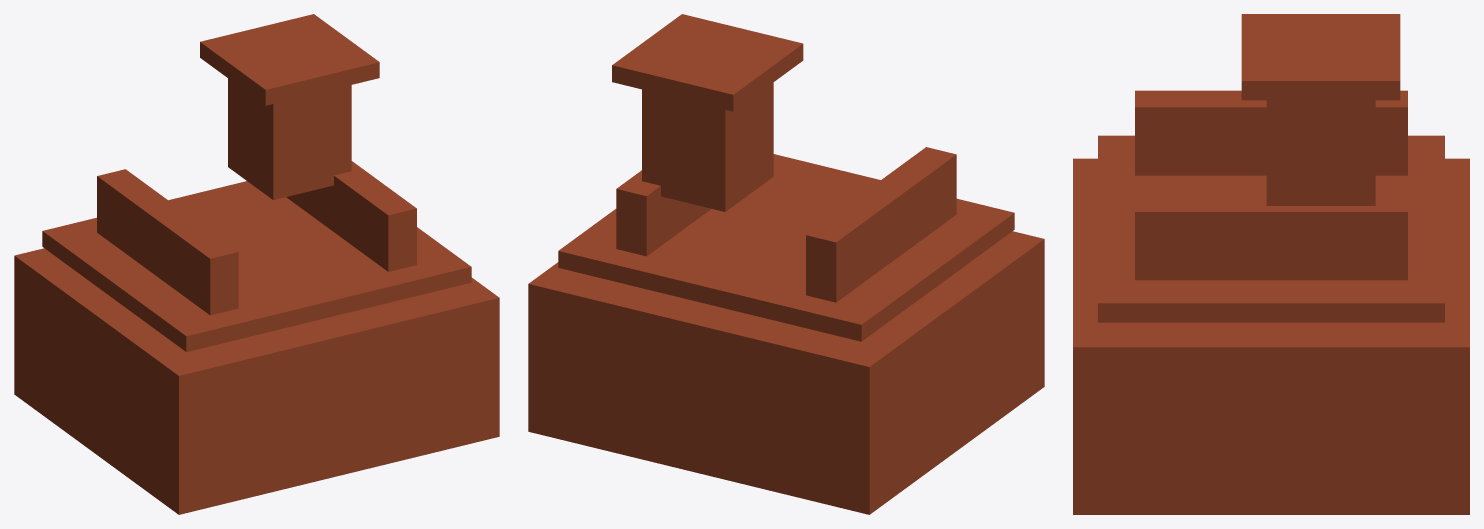
Rendered from kiln.glb.
The picture shows the model from 3 angles, left to right: view 1: azimuth 30°, elevation 25°; view 2: azimuth 150°, elevation 25°; view 3: azimuth 270°, elevation 25°; orthographic projection. The views are drawn at different scales.
Parts seen in each view (by area): view 1: module.kiln; view 2: module.kiln; view 3: module.kiln.
Boxes of the visible parts, x1=… form: module.kiln: x1=14, y1=14, x2=499, y2=514; module.kiln: x1=528, y1=14, x2=1044, y2=514; module.kiln: x1=1073, y1=14, x2=1469, y2=514.
Size of the model in its own units: 1 by 1 by 0.8889.
